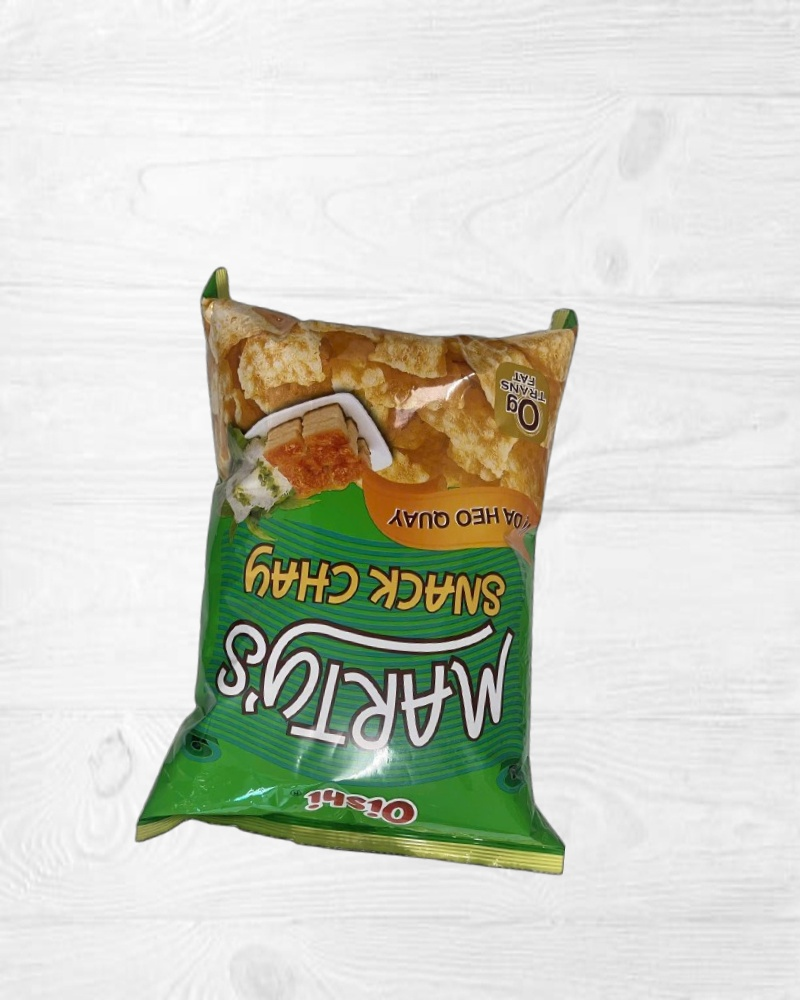Snack chay: (156, 268, 612, 880)
